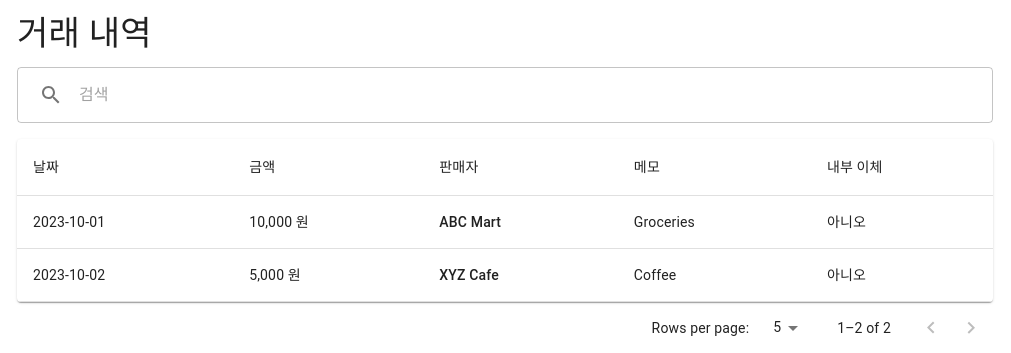
Test case: filters transactions based on search input
In the field with placeholder "검색": (536, 95) [79,67,993,123], type "ABC"
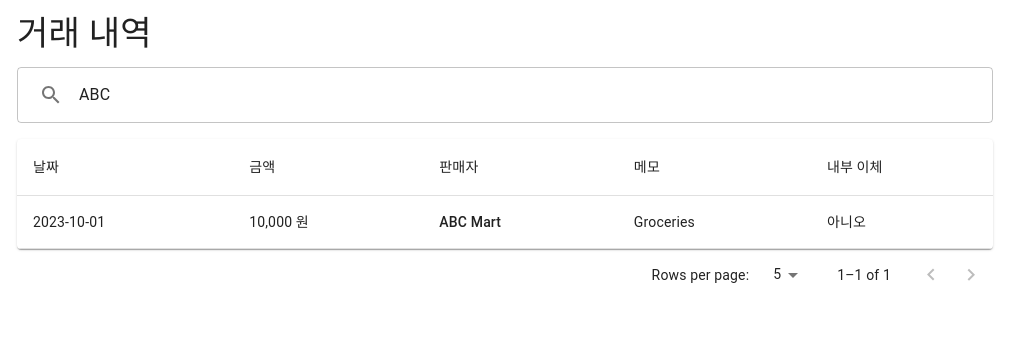
Expected: the link "ABC Mart" is shown, [439,214,501,230]
Now the link "XYZ Cafe" is gone
